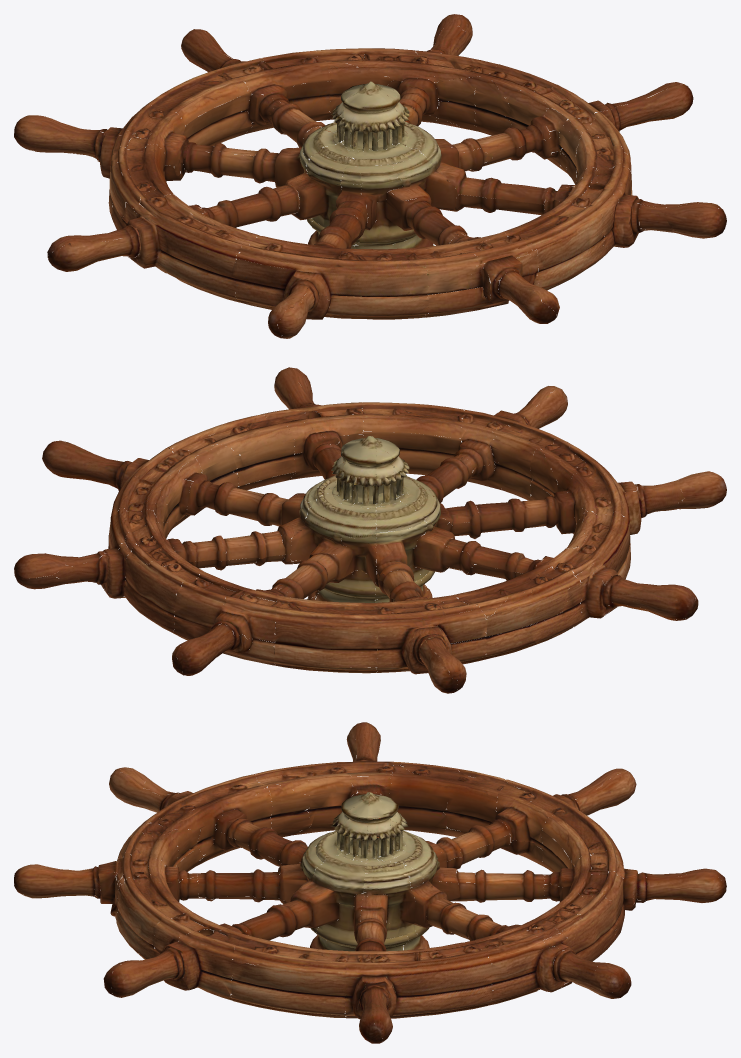
File: winch_wheel.glb
3 views of the same model, one above another, from view 1: azimuth 30°, elevation 25°; view 2: azimuth 150°, elevation 25°; view 3: azimuth 270°, elevation 25° (orthographic). The views are drawn at different scales.
Parts seen in each view (by area): view 1: tripo_node_c6b1e2f0-f1ea-4888-8953-d281371e8c11; view 2: tripo_node_c6b1e2f0-f1ea-4888-8953-d281371e8c11; view 3: tripo_node_c6b1e2f0-f1ea-4888-8953-d281371e8c11.
Boxes of the visible parts, x1=… form: tripo_node_c6b1e2f0-f1ea-4888-8953-d281371e8c11: x1=14, y1=14, x2=726, y2=338; tripo_node_c6b1e2f0-f1ea-4888-8953-d281371e8c11: x1=14, y1=367, x2=726, y2=693; tripo_node_c6b1e2f0-f1ea-4888-8953-d281371e8c11: x1=14, y1=722, x2=726, y2=1043.
Bounding box in the file's own units: 0.9998 × 0.282 × 0.9964.
Materials: 1 (1 with a texture image).
